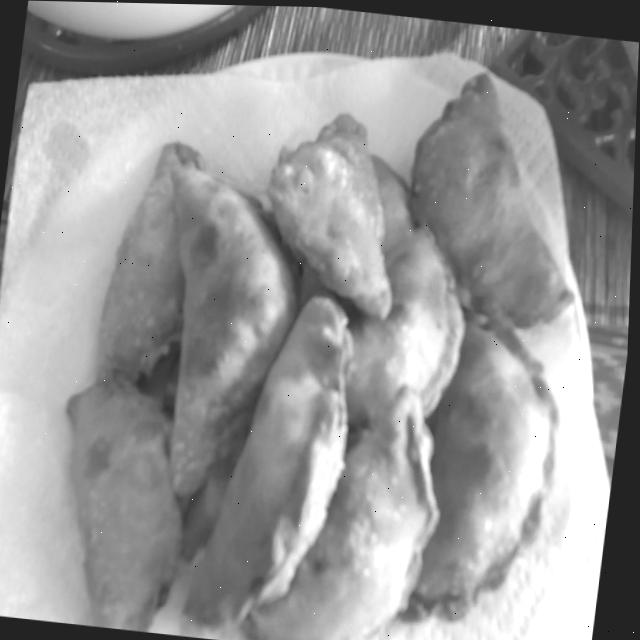炸货点心: (0, 34, 631, 640)
